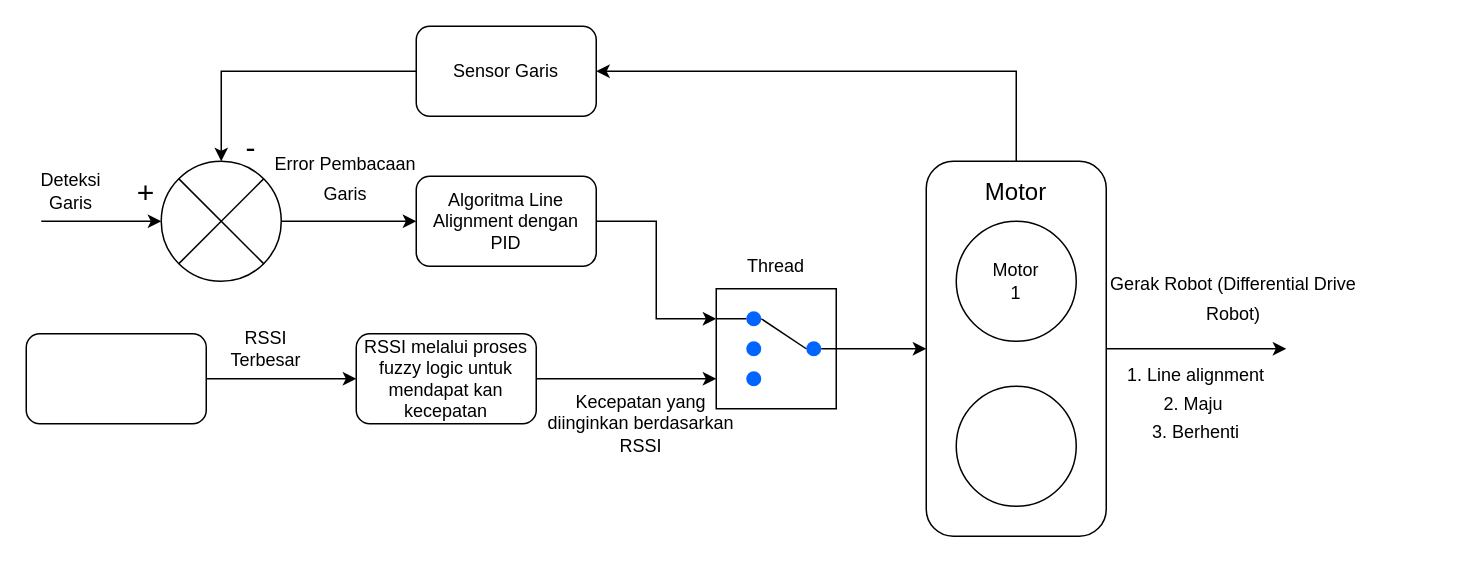
This 1478x563 diagram has some shape labels left out. The centre of each missing label's shape, as x and y in pixels:
Deteksi RSSI: point 115,378
Motor 2: point 1015,445
